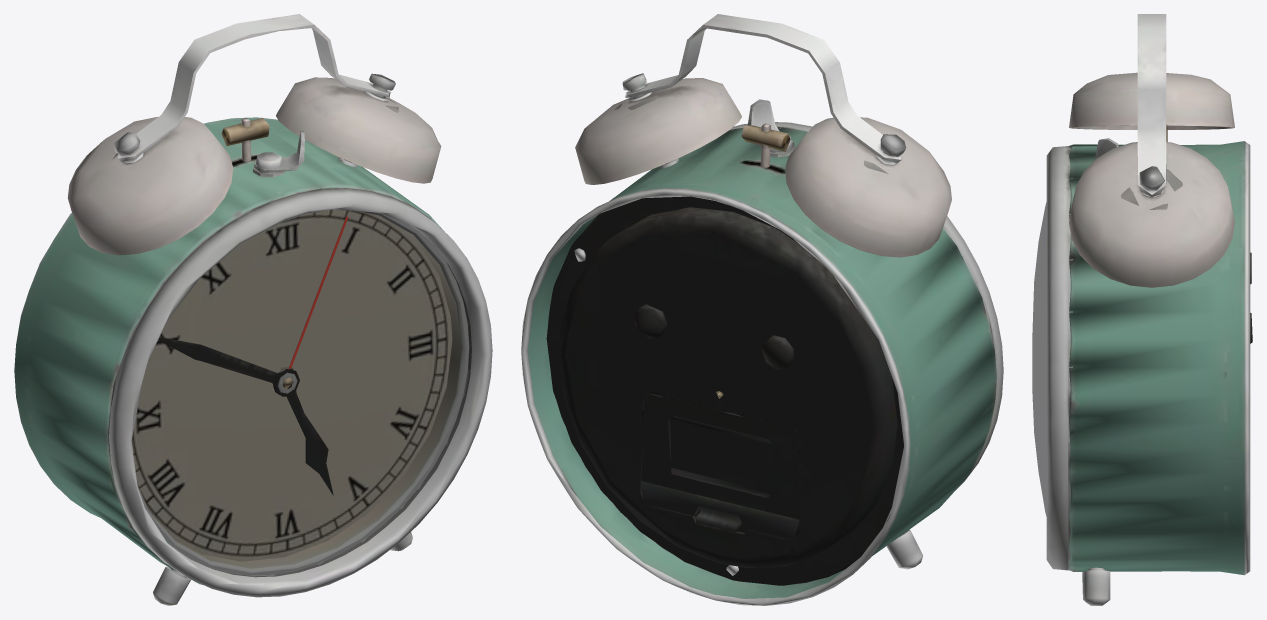
The model's file is alarm_clock.glb.
The picture shows the model from 3 angles, left to right: view 1: azimuth 30°, elevation 25°; view 2: azimuth 150°, elevation 25°; view 3: azimuth 270°, elevation 25°; orthographic projection. The views are drawn at different scales.
Visible parts, largest first — view 1: alarm_clock_01; view 2: alarm_clock_01; view 3: alarm_clock_01.
Part boxes in pixels (bbox=[...]): alarm_clock_01: bbox=[14, 14, 492, 605]; alarm_clock_01: bbox=[521, 14, 1003, 605]; alarm_clock_01: bbox=[1032, 14, 1252, 605].
Bounding box in the file's own units: 0.1312 × 0.1738 × 0.0666.
2 materials, 2 textured.
